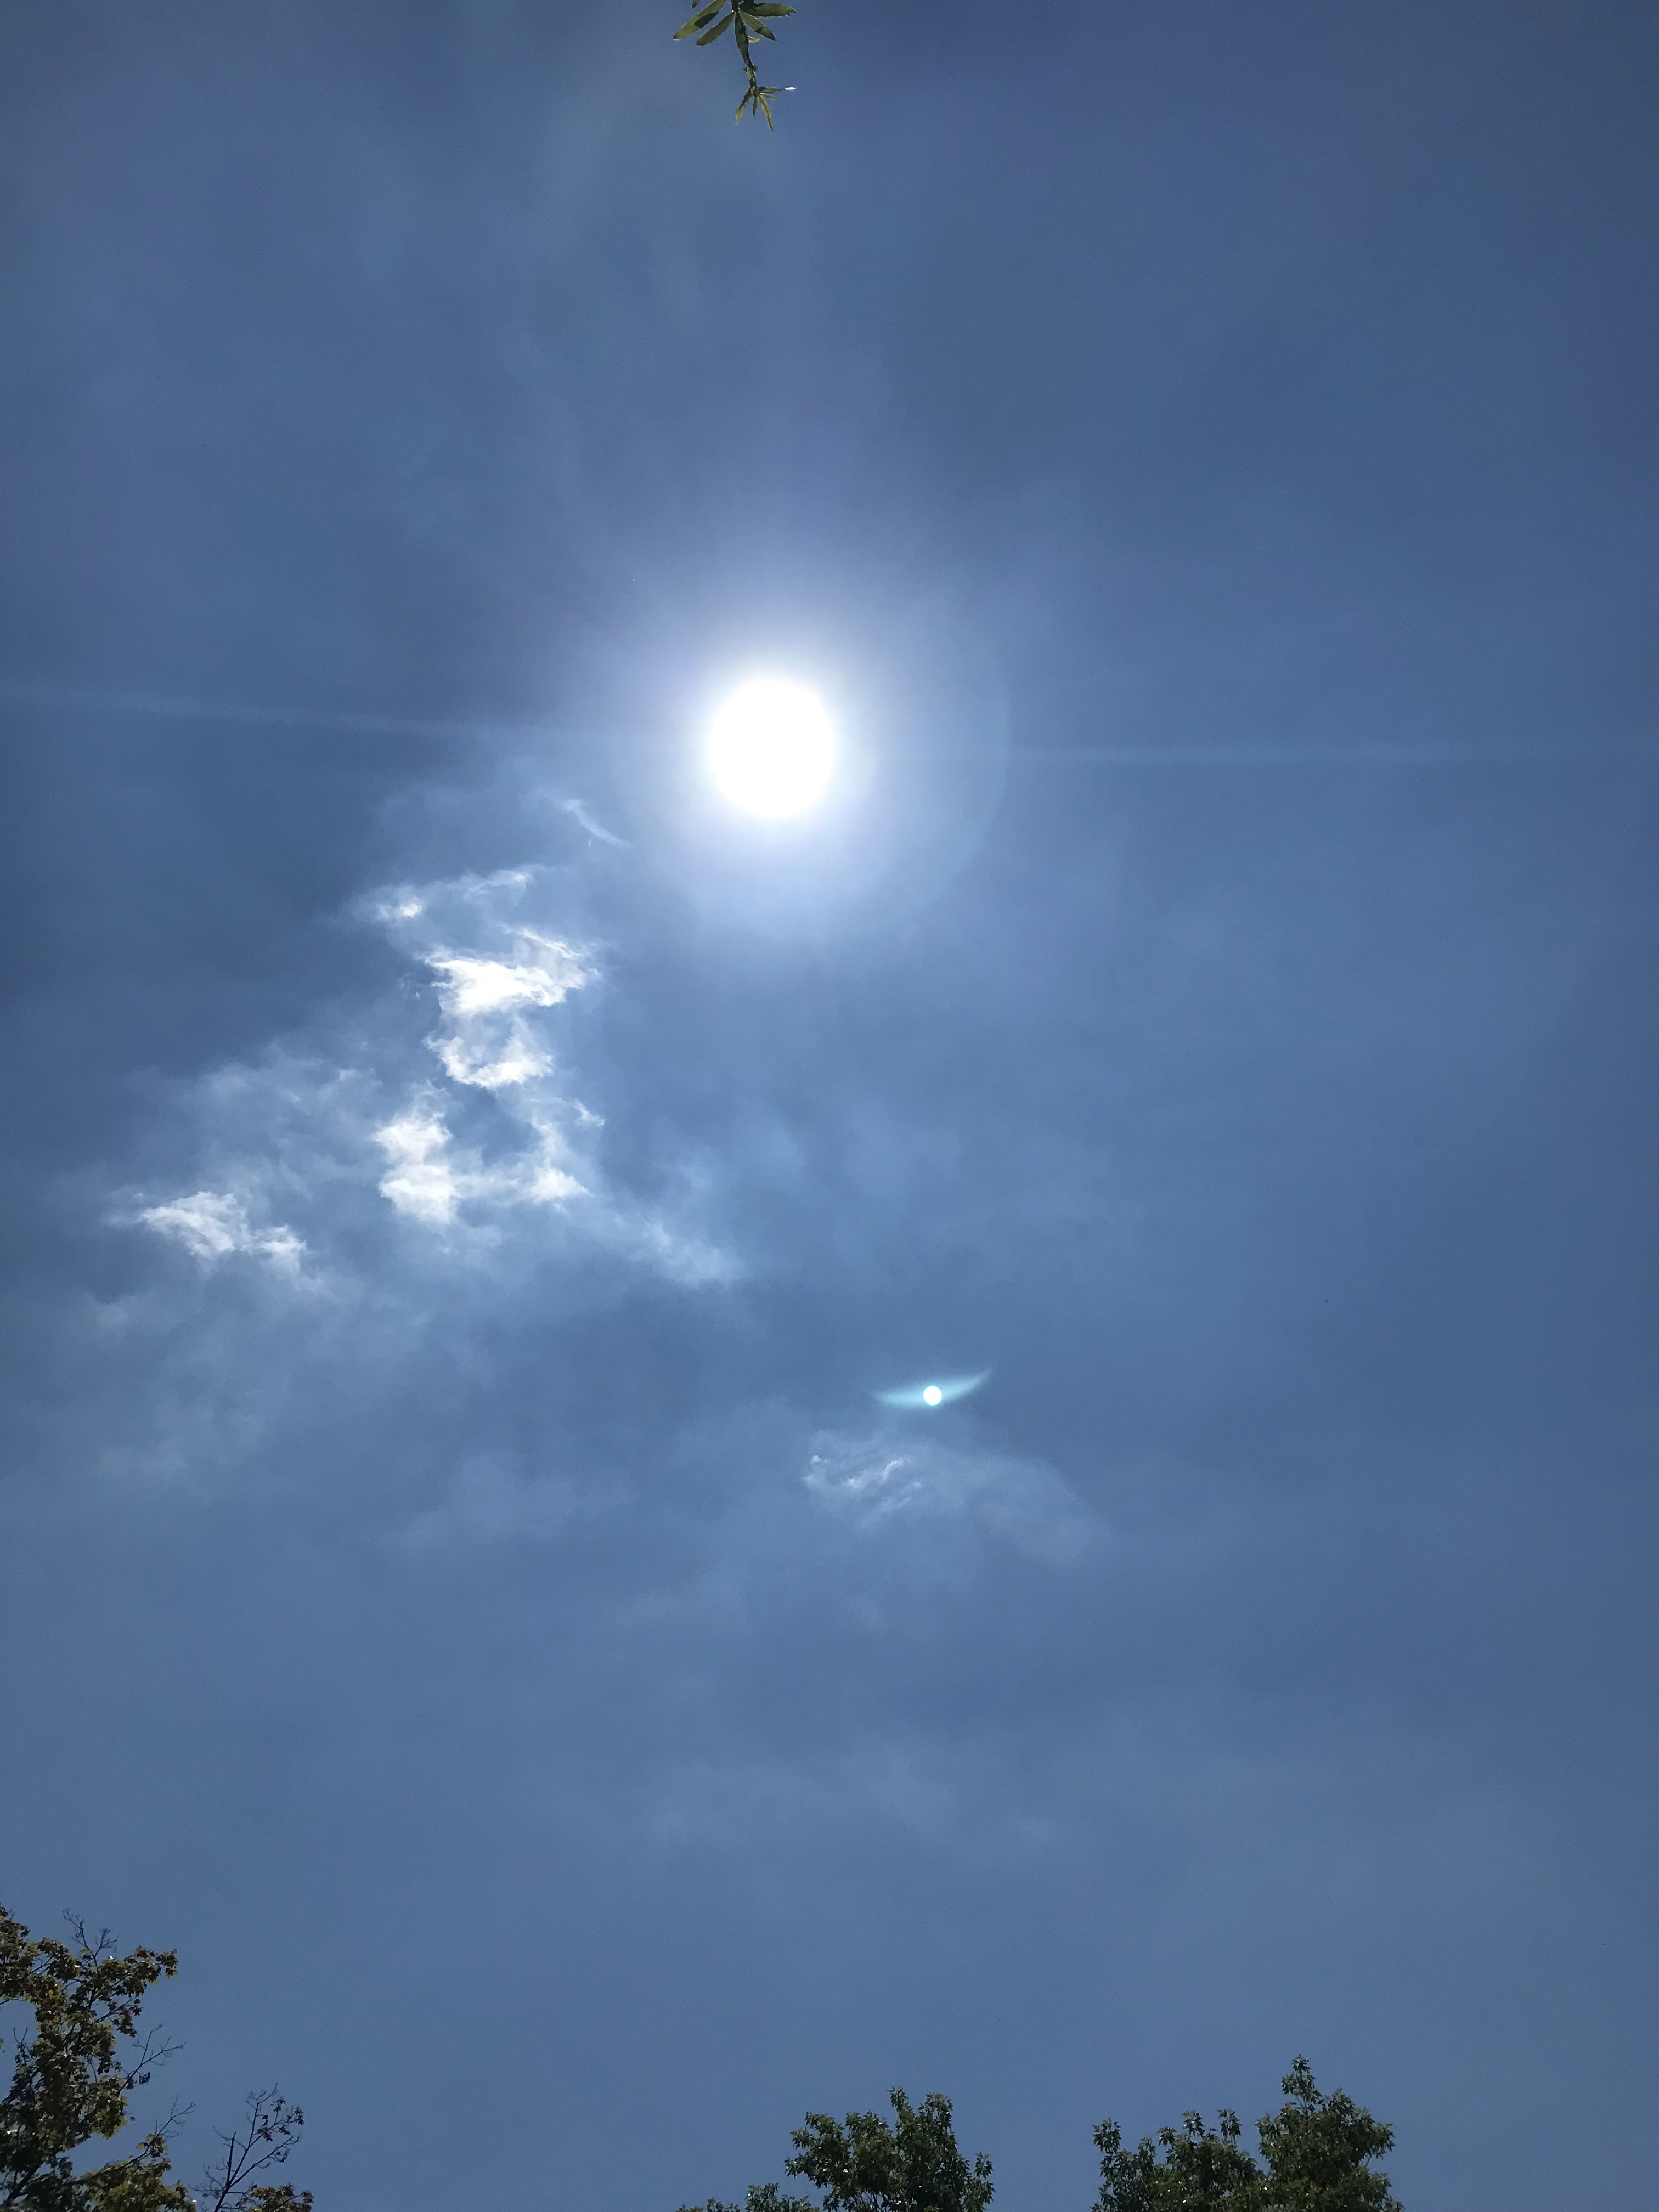flare: (922, 1385, 945, 1407)
